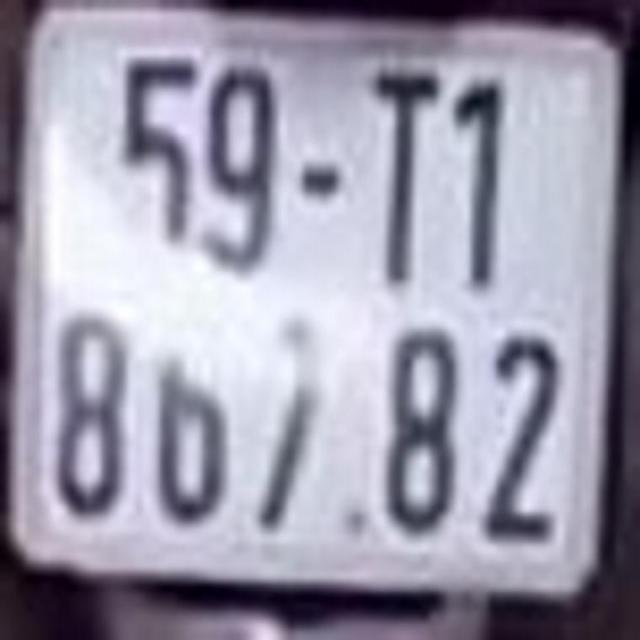1: (454, 73, 498, 282)
2: (486, 334, 564, 542)
5: (114, 49, 192, 264)
6: (160, 318, 230, 518)
7: (248, 314, 324, 522)
8: (388, 328, 456, 531), (57, 312, 121, 510)
9: (204, 68, 272, 274)
T: (378, 65, 444, 290)
